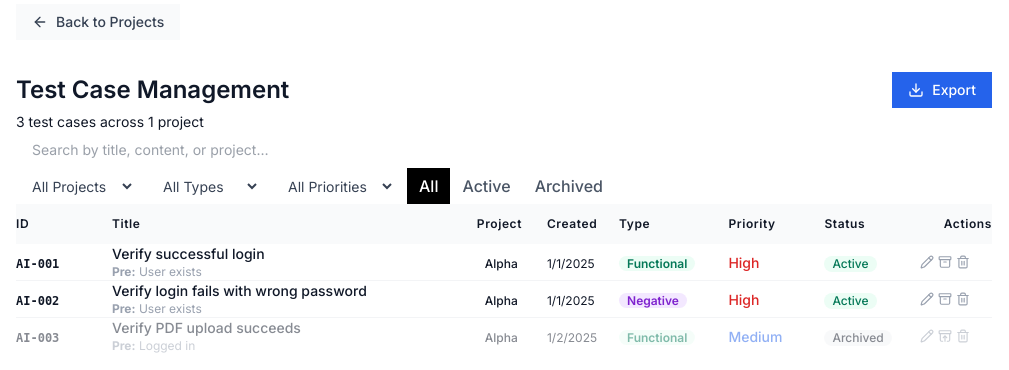
Test: TestCaseManagementView – status filter › Active pill hides archived test cases
expect the text "Verify PDF upload succeeds" is shown: met, box [112,319,301,336]
Click the button "Active".
click(486, 186)  # box [450,168,523,204]
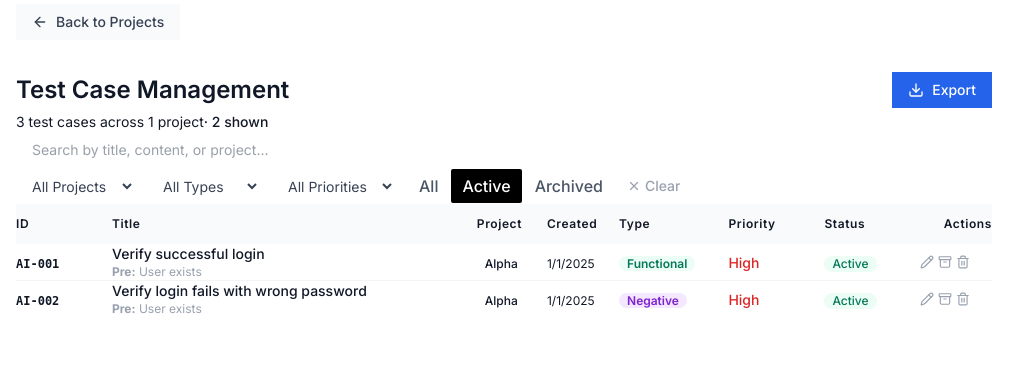
expect the text "Verify PDF upload" is gone: met
